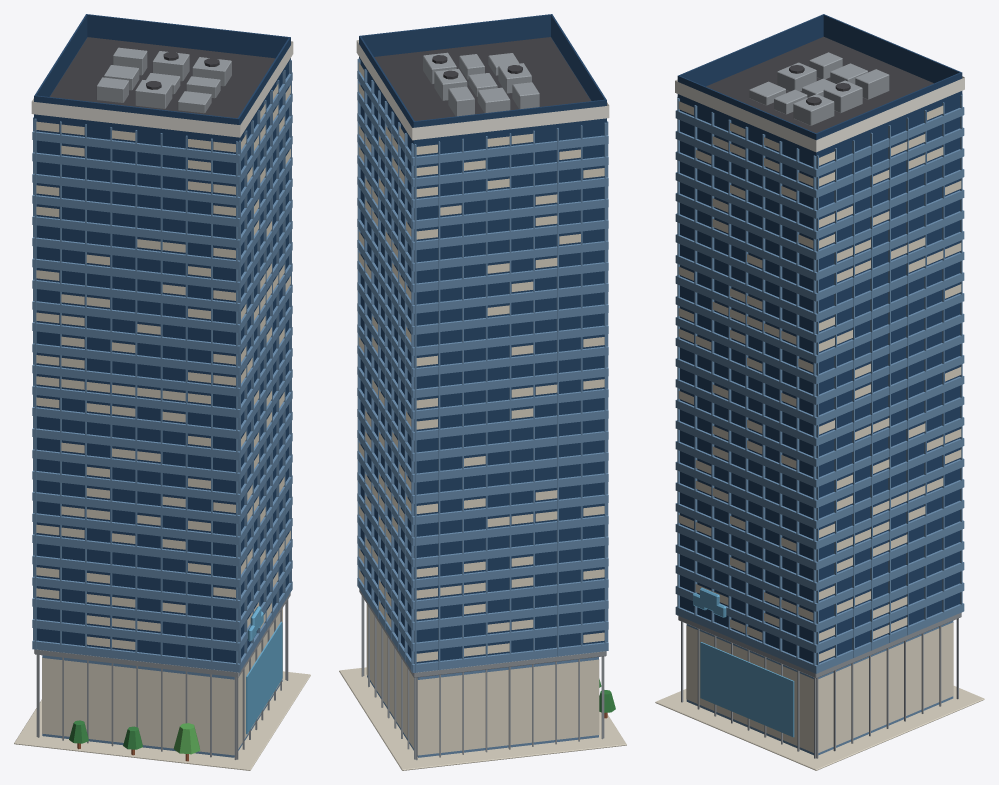
Rendered from 350-mission.glb.
3 renders of one model, left to right at view 1: azimuth 30°, elevation 25°; view 2: azimuth 150°, elevation 25°; view 3: azimuth 270°, elevation 25°, orthographic. The views are drawn at different scales.
Parts seen in each view (by area): view 1: 350-mission_body, 350-mission_night_glow; view 2: 350-mission_body, 350-mission_night_glow; view 3: 350-mission_body, 350-mission_night_glow.
Part boxes in pixels (x1,y1,x2,y2): 350-mission_body: (14, 14, 310, 770); 350-mission_night_glow: (31, 41, 293, 755); 350-mission_body: (339, 14, 626, 770); 350-mission_night_glow: (356, 40, 609, 755); 350-mission_body: (655, 14, 984, 770); 350-mission_night_glow: (675, 76, 964, 752).
Size of the model in its own units: 61.38 by 129 by 61.38.
